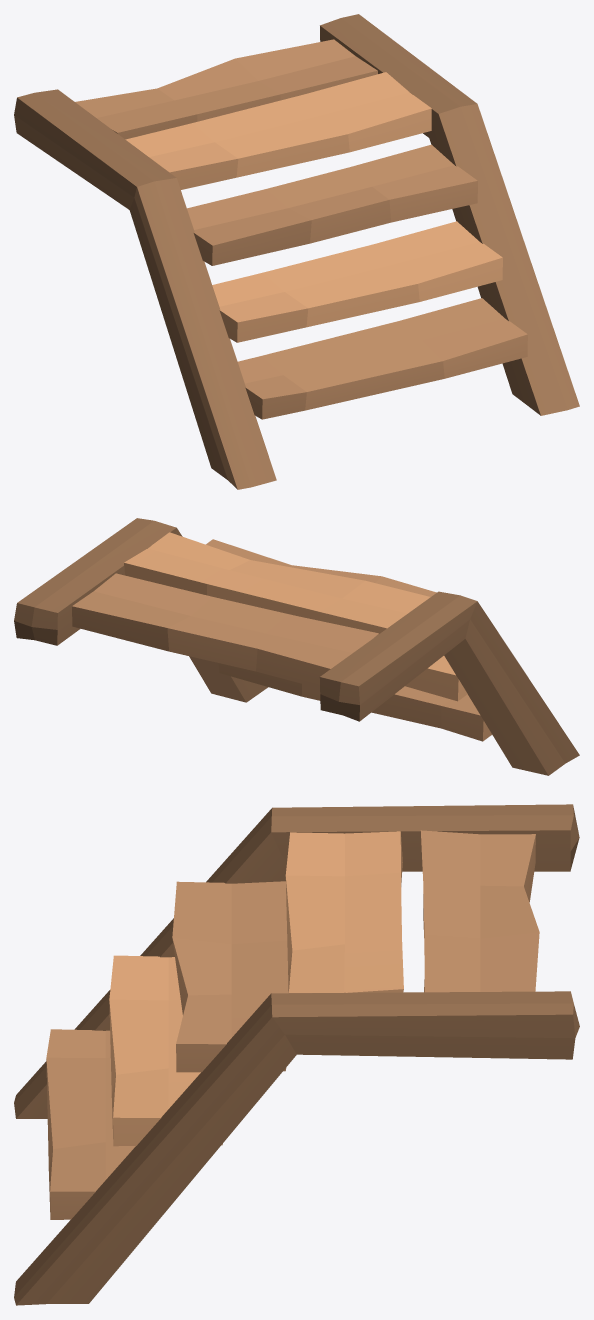
Rendered from steps.glb.
3 renders of one model, top to bottom at view 1: azimuth 30°, elevation 25°; view 2: azimuth 150°, elevation 25°; view 3: azimuth 270°, elevation 25°, orthographic. The views are drawn at different scales.
Visible parts, largest first — view 1: steps; view 2: steps; view 3: steps.
Boxes of the visible parts, box(x1,y1,x2,y2) form: steps: box(14, 14, 579, 489); steps: box(14, 518, 579, 775); steps: box(14, 804, 579, 1305).
Bounding box in the file's own units: 2.31 × 1.48 × 2.59.
Materials: 1 (1 with a texture image).
